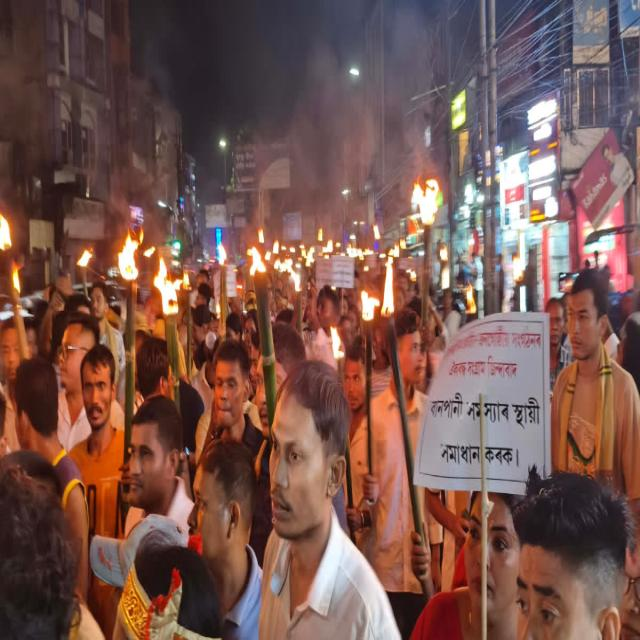fire: (153, 256, 179, 315), (117, 226, 143, 280), (413, 175, 439, 225)
